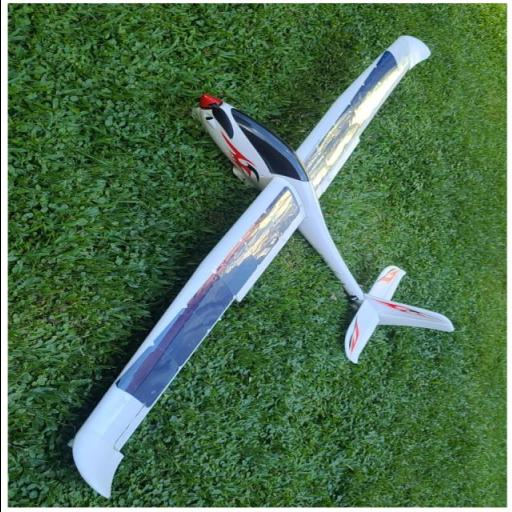uav: (24, 28, 466, 502)
